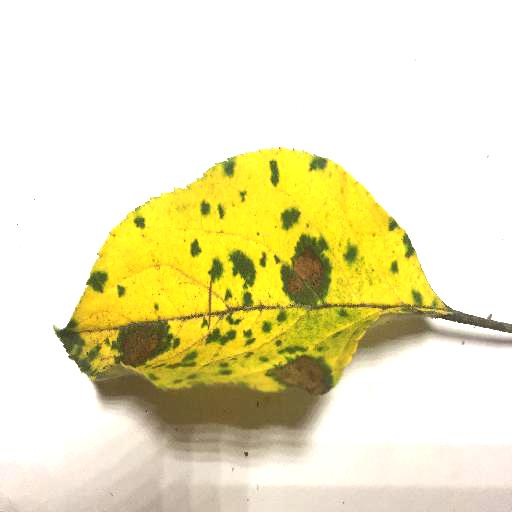Brown_Spot: (281, 245, 329, 295), (264, 352, 330, 388), (118, 327, 168, 355)
